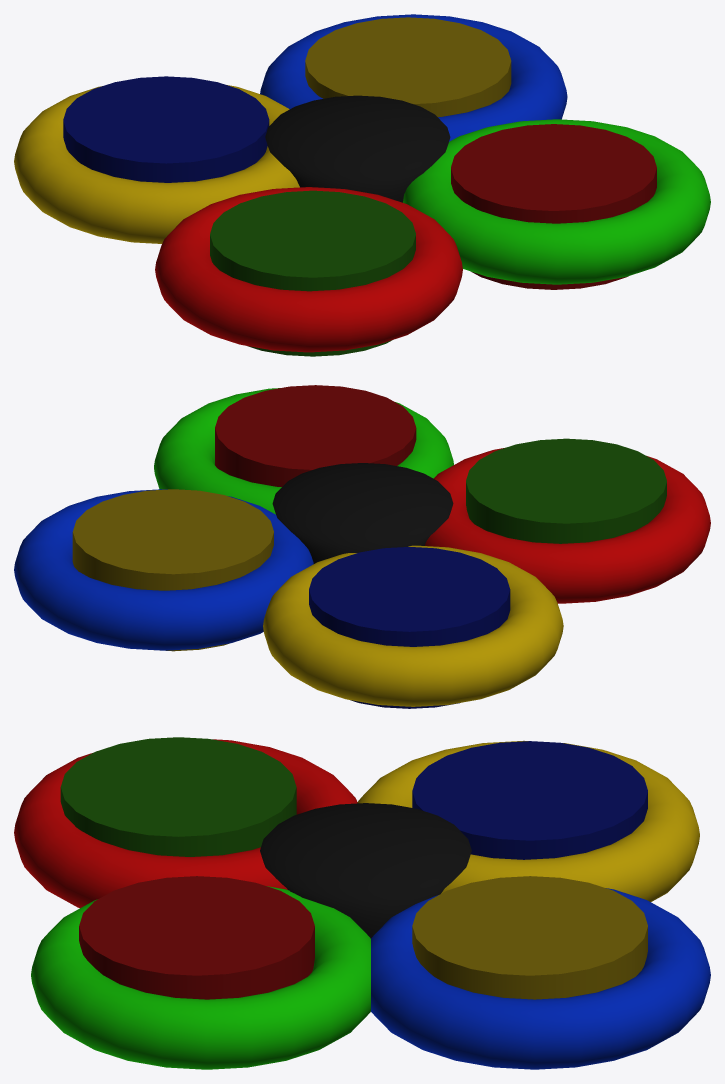
Rendered from fidget-spinner.dae.
3 renders of one model, top to bottom at view 1: azimuth 30°, elevation 25°; view 2: azimuth 150°, elevation 25°; view 3: azimuth 270°, elevation 25°, orthographic. The views are drawn at different scales.
Visible parts, largest first — view 1: Torus, Torus2, Cylinder3, Cylinder, Cylinder1, Torus3, Cylinder2, Sphere, Torus1; view 2: Torus3, Torus1, Cylinder, Cylinder2, Cylinder3, Torus, Cylinder1, Sphere, Torus2; view 3: Torus1, Torus2, Cylinder1, Cylinder2, Cylinder, Cylinder3, Sphere, Torus, Torus3.
Boxes of the visible parts, bbox=[...] form: Torus: bbox=[155, 187, 462, 352]; Torus2: bbox=[403, 119, 710, 284]; Cylinder3: bbox=[63, 76, 269, 182]; Cylinder: bbox=[210, 190, 415, 356]; Cylinder1: bbox=[451, 124, 656, 289]; Torus3: bbox=[14, 85, 299, 243]; Cylinder2: bbox=[305, 17, 511, 116]; Sphere: bbox=[265, 95, 450, 202]; Torus1: bbox=[260, 14, 567, 141]; Torus3: bbox=[263, 545, 563, 706]; Torus1: bbox=[14, 489, 313, 650]; Cylinder: bbox=[466, 438, 666, 543]; Cylinder2: bbox=[72, 489, 273, 651]; Cylinder3: bbox=[309, 547, 510, 708]; Torus: bbox=[425, 448, 710, 603]; Cylinder1: bbox=[215, 385, 416, 486]; Sphere: bbox=[272, 463, 453, 563]; Torus2: bbox=[154, 388, 453, 514]; Torus1: bbox=[371, 888, 710, 1069]; Torus2: bbox=[31, 886, 370, 1069]; Cylinder1: bbox=[79, 876, 314, 999]; Cylinder2: bbox=[412, 876, 647, 999]; Cylinder: bbox=[60, 737, 296, 856]; Cylinder3: bbox=[412, 741, 647, 859]; Sphere: bbox=[260, 803, 471, 938]; Torus: bbox=[14, 739, 357, 907]; Torus3: bbox=[357, 740, 699, 901].
Bounding box in the file's own units: 1.96 × 0.4113 × 1.98.
